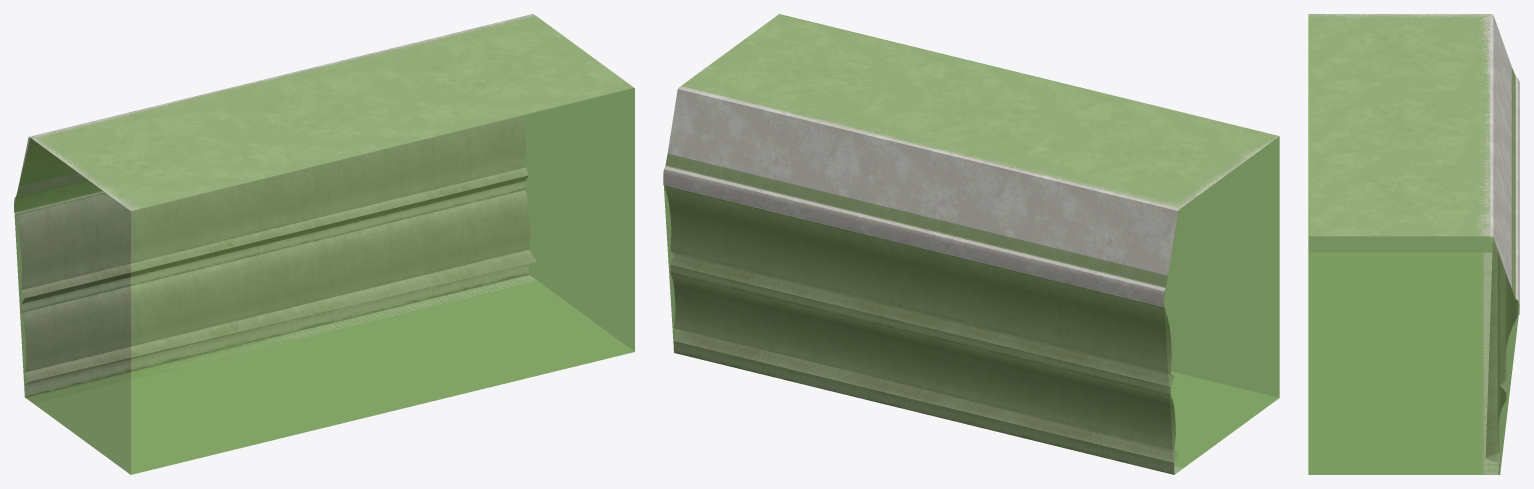
Rendered from F2_md_Roof_3m_02.fbx.
3 views of the same model, side by side, from view 1: azimuth 30°, elevation 25°; view 2: azimuth 150°, elevation 25°; view 3: azimuth 270°, elevation 25° (orthographic). The views are drawn at different scales.
Visible parts, largest first — view 1: F2_md_Roof_3m_02_col_01, F2_md_Roof_3m_02_LOD0; view 2: F2_md_Roof_3m_02_LOD0, F2_md_Roof_3m_02_col_01; view 3: F2_md_Roof_3m_02_col_01, F2_md_Roof_3m_02_LOD0.
Boxes of the visible parts, x1=… form: F2_md_Roof_3m_02_col_01: x1=14, y1=15, x2=634, y2=474; F2_md_Roof_3m_02_LOD0: x1=14, y1=14, x2=633, y2=403; F2_md_Roof_3m_02_LOD0: x1=663, y1=14, x2=1279, y2=474; F2_md_Roof_3m_02_col_01: x1=663, y1=14, x2=1279, y2=474; F2_md_Roof_3m_02_col_01: x1=1308, y1=14, x2=1519, y2=474; F2_md_Roof_3m_02_LOD0: x1=1308, y1=14, x2=1519, y2=474.
Size of what is drawn, in the model's own units: 300 by 150 by 120.
